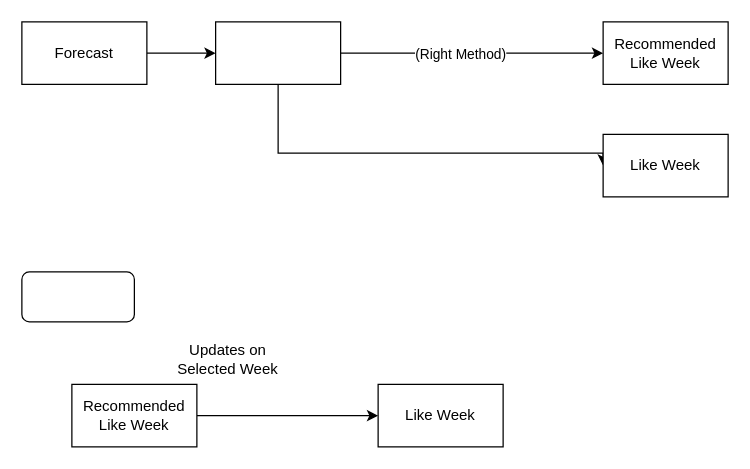
Some shapes in this 750 by 469 pixel diagram are drawn without their labels. Here are the shapes that lost their labels. From the top down, the centre of each, then its label:
At (277,52): "Created".
At (77,296): "<< Edit >>".
